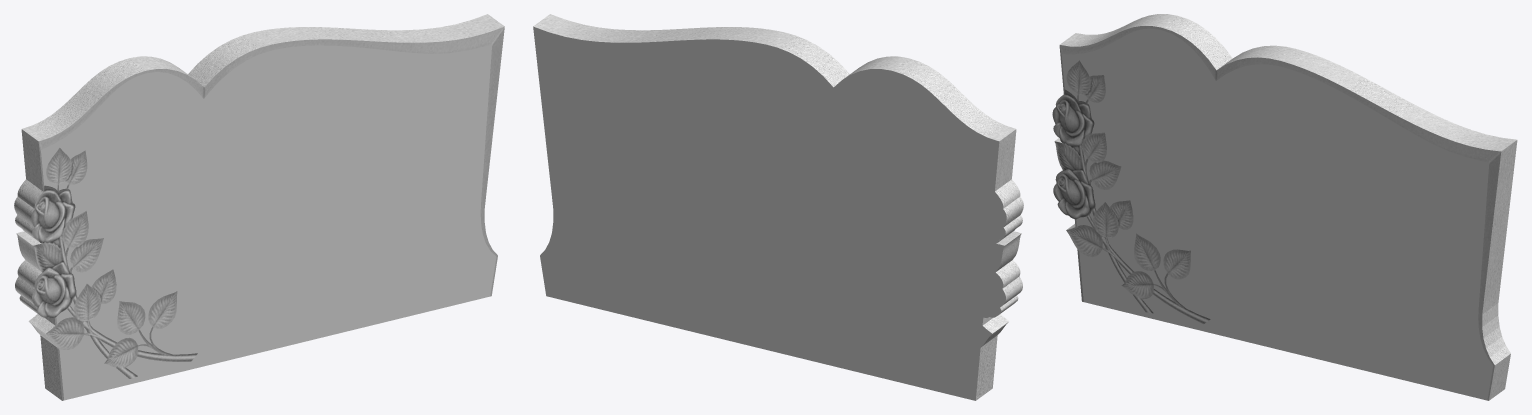
Rendered from cn6691ffdc63_tkf.glb.
3 views of the same model, side by side, from view 1: azimuth 30°, elevation 25°; view 2: azimuth 150°, elevation 25°; view 3: azimuth 330°, elevation 25° (orthographic). The views are drawn at different scales.
Visible parts, largest first — view 1: Pam-d03-347, Pam-d03-347_2_notexture; view 2: Pam-d03-347, Pam-d03-347_2_notexture; view 3: Pam-d03-347, Pam-d03-347_2_notexture.
Part boxes in pixels (x1,y1,x2,y2): Pam-d03-347: (41, 44, 496, 400); Pam-d03-347_2_notexture: (14, 14, 504, 400); Pam-d03-347: (533, 26, 1006, 400); Pam-d03-347_2_notexture: (533, 14, 1023, 400); Pam-d03-347: (1061, 28, 1493, 400); Pam-d03-347_2_notexture: (1052, 14, 1517, 400).
Bounding box in the file's own units: 0.8 × 0.5 × 0.05.
Materials: 1 (1 with a texture image).
